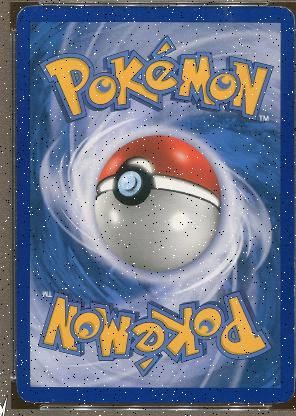Card: (14, 2, 294, 406)
Corner Wear: (16, 378, 50, 404), (267, 383, 293, 405), (277, 6, 293, 26), (16, 6, 25, 26)
Edge Wear: (217, 401, 272, 403), (15, 332, 17, 368), (291, 255, 293, 269), (291, 286, 293, 298), (291, 326, 293, 338), (15, 213, 16, 225)
Scratch: (31, 228, 37, 232), (51, 398, 55, 402)
